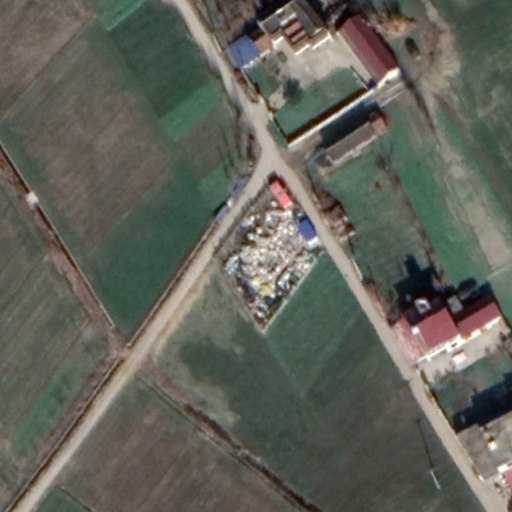msw: (223, 203, 314, 323)
